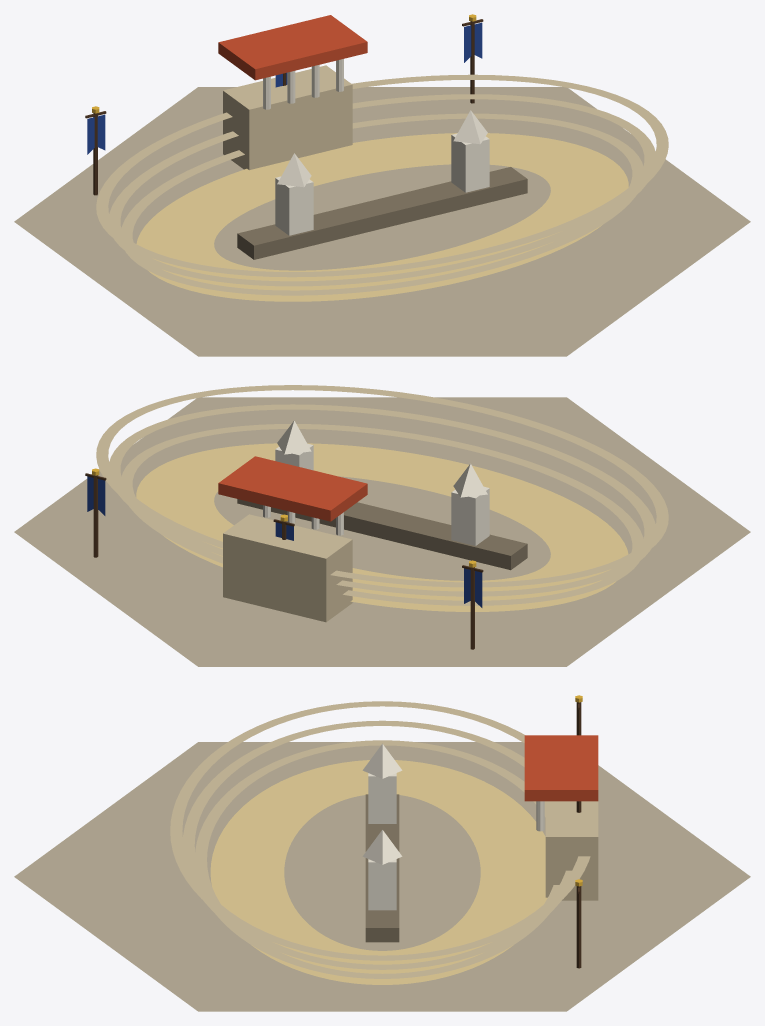
Rendered from district_hippodrome_1.fbx.
3 views of the same model, one above another, from view 1: azimuth 30°, elevation 25°; view 2: azimuth 150°, elevation 25°; view 3: azimuth 270°, elevation 25° (orthographic).
Parts seen in each view (by area): view 1: district_hippodrome_1; view 2: district_hippodrome_1; view 3: district_hippodrome_1.
Part boxes in pixels (x1=…): district_hippodrome_1: x1=14, y1=14, x2=750, y2=356; district_hippodrome_1: x1=14, y1=385, x2=750, y2=666; district_hippodrome_1: x1=14, y1=695, x2=750, y2=1011.
Bounding box in the file's own units: 182 × 35.9 × 210.
